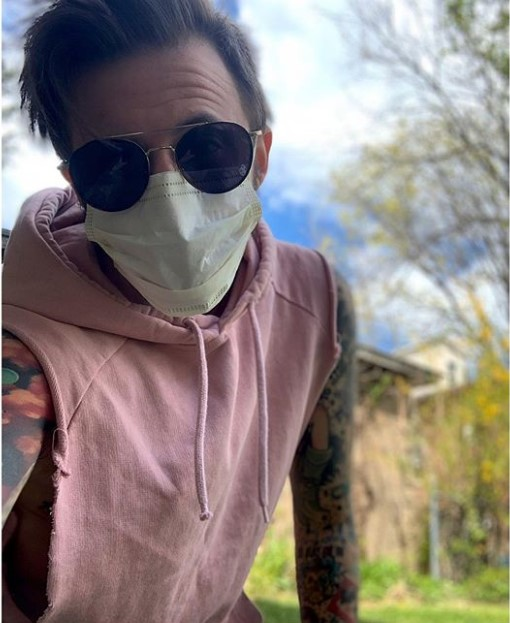face_with_mask: (36, 8, 276, 326)
